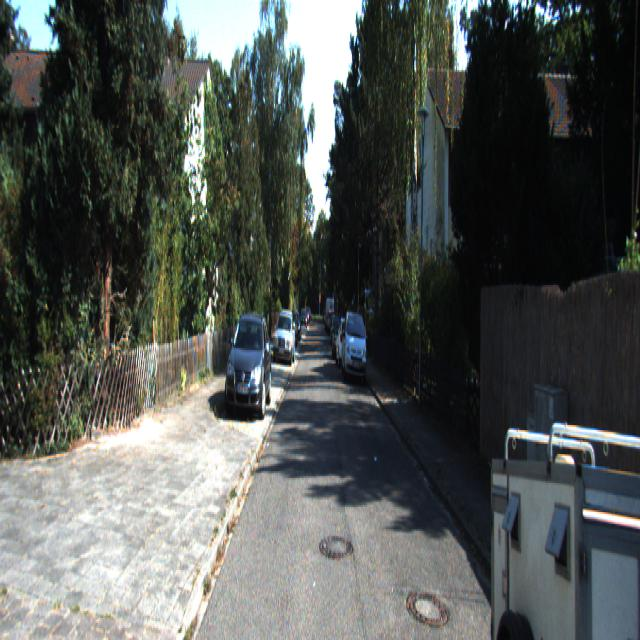Car: (488, 396, 639, 638), (225, 309, 272, 418), (342, 306, 368, 382), (272, 310, 296, 364)
